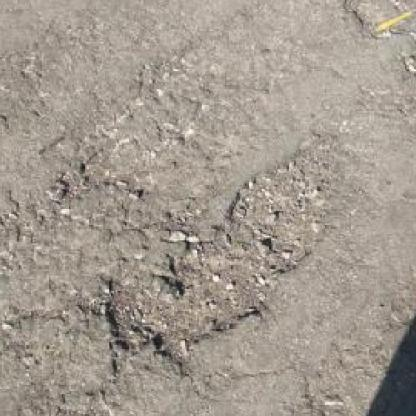pothole: (94, 239, 281, 369), (217, 144, 353, 268)
